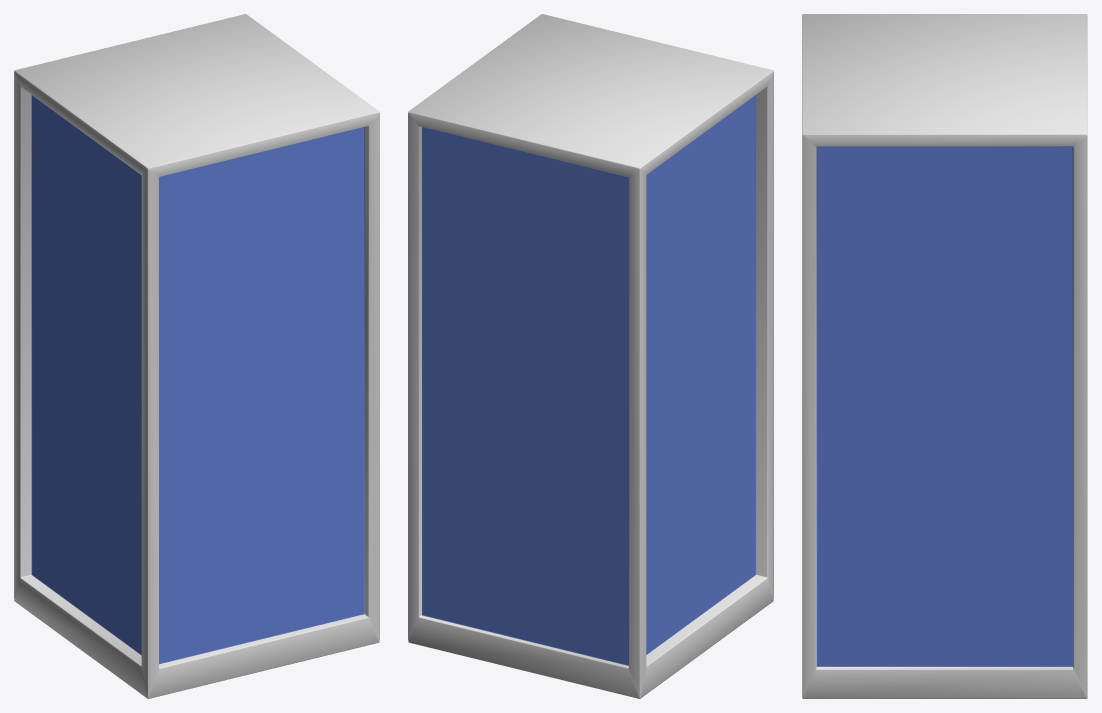
File: shower.fbx
The picture shows the model from 3 angles, left to right: view 1: azimuth 30°, elevation 25°; view 2: azimuth 150°, elevation 25°; view 3: azimuth 270°, elevation 25°; orthographic projection. The views are drawn at different scales.
Visible parts, largest first — view 1: Cube; view 2: Cube; view 3: Cube.
Part boxes in pixels (<box>): Cube: <box>14,14,379,698</box>; Cube: <box>408,14,773,698</box>; Cube: <box>802,14,1087,698</box>.
Size of the model in its own units: 170 by 372 by 170.
